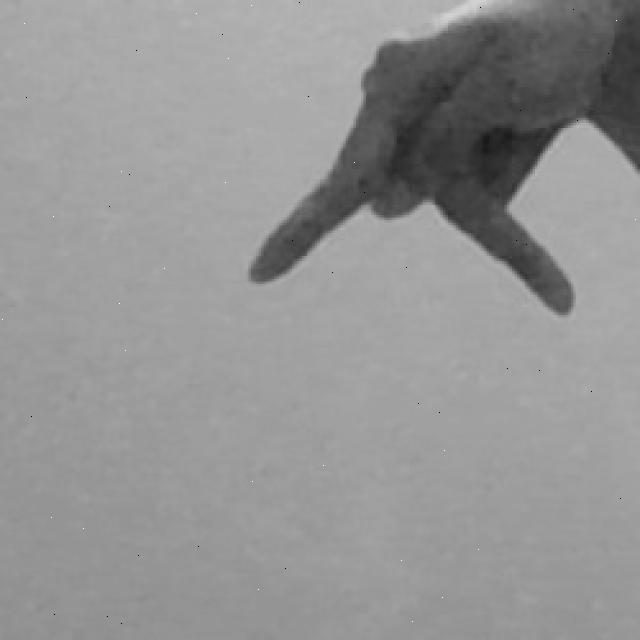P: (240, 0, 640, 325)
